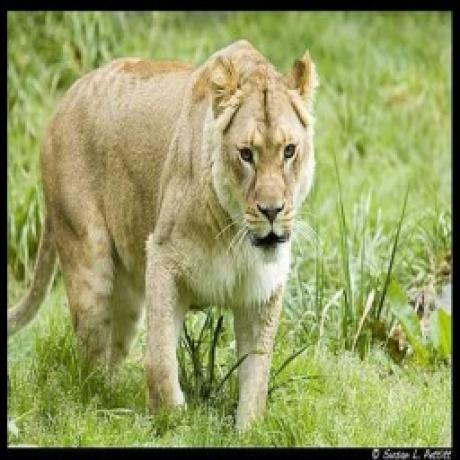Lion: (6, 36, 323, 426)
